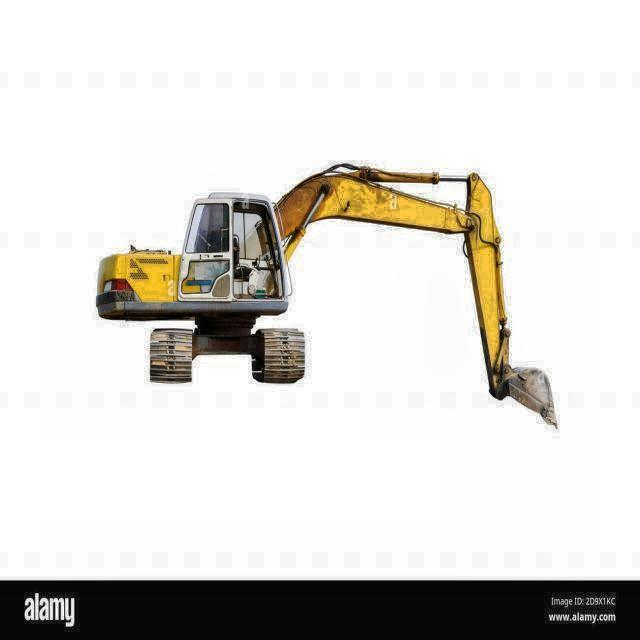excavator: (94, 158, 562, 432)
